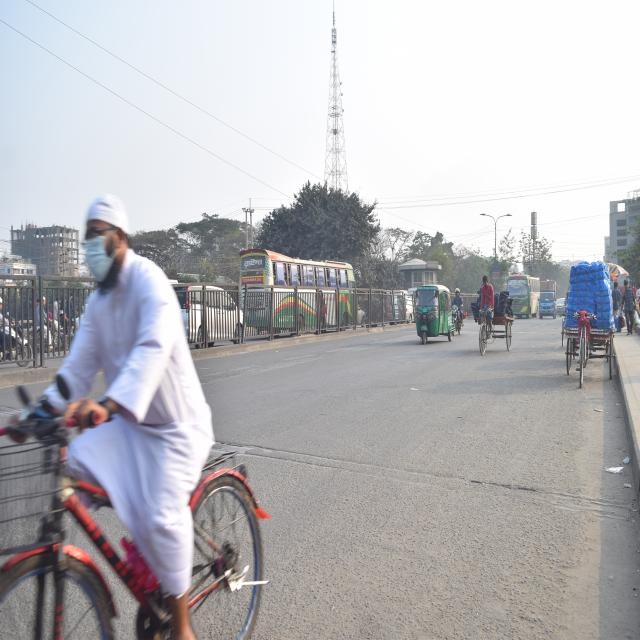bus: (506, 270, 540, 323)
car: (555, 297, 565, 317)
motorbike: (449, 293, 462, 336)
pickup-van: (534, 283, 558, 324)
